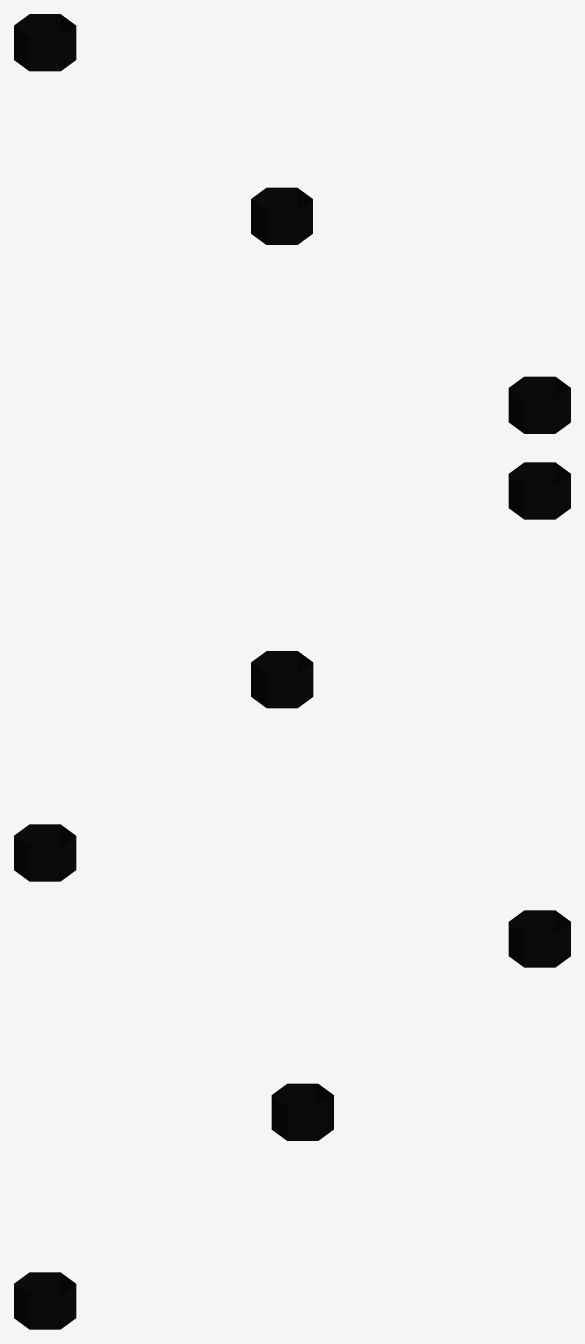
File: TreLuzes.glb
3 views of the same model, one above another, from view 1: azimuth 30°, elevation 25°; view 2: azimuth 150°, elevation 25°; view 3: azimuth 330°, elevation 25° (orthographic).
Visible parts, largest first — view 1: Cylinder.008, Cylinder.010, Cylinder.009; view 2: Cylinder.008, Cylinder.010, Cylinder.009; view 3: Cylinder.008, Cylinder.010, Cylinder.009.
Part boxes in pixels (<box>): Cylinder.008: <box>14,14,76,71</box>; Cylinder.010: <box>508,376,570,433</box>; Cylinder.009: <box>251,187,312,244</box>; Cylinder.008: <box>14,824,76,881</box>; Cylinder.010: <box>508,462,570,519</box>; Cylinder.009: <box>251,651,313,708</box>; Cylinder.008: <box>508,910,570,967</box>; Cylinder.010: <box>14,1272,76,1329</box>; Cylinder.009: <box>271,1083,333,1140</box>.
Bounding box in the file's own units: 0.1272 × 0.0895 × 2.47.
2 materials, 1 textured.
